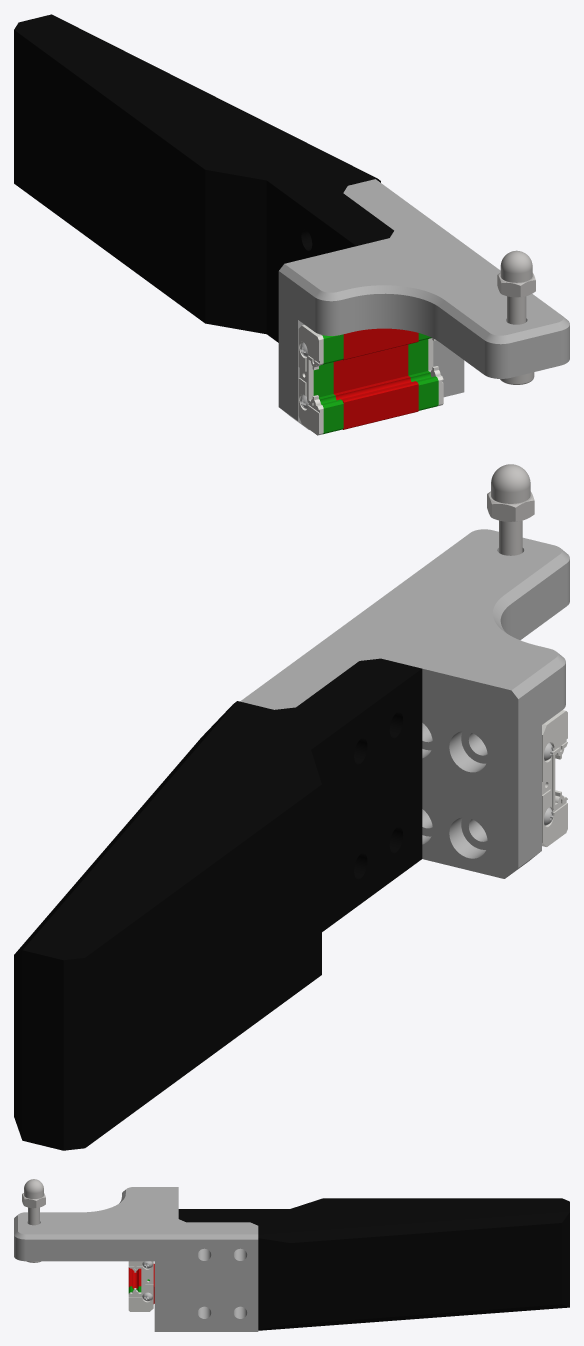
Rendered from right_gripper.dae.
The picture shows the model from 3 angles, top to bottom: view 1: azimuth 30°, elevation 25°; view 2: azimuth 150°, elevation 25°; view 3: azimuth 270°, elevation 25°; orthographic projection. The views are drawn at different scales.
Visible parts, largest first — view 1: right_gripper; view 2: right_gripper; view 3: right_gripper.
Boxes of the visible parts, x1,y1,x2,y2 form: right_gripper: (14,14,569,435); right_gripper: (14,464,569,1150); right_gripper: (14,1179,569,1331).
Bounding box in the file's own units: 0.0304 × 0.1392 × 0.0382.
